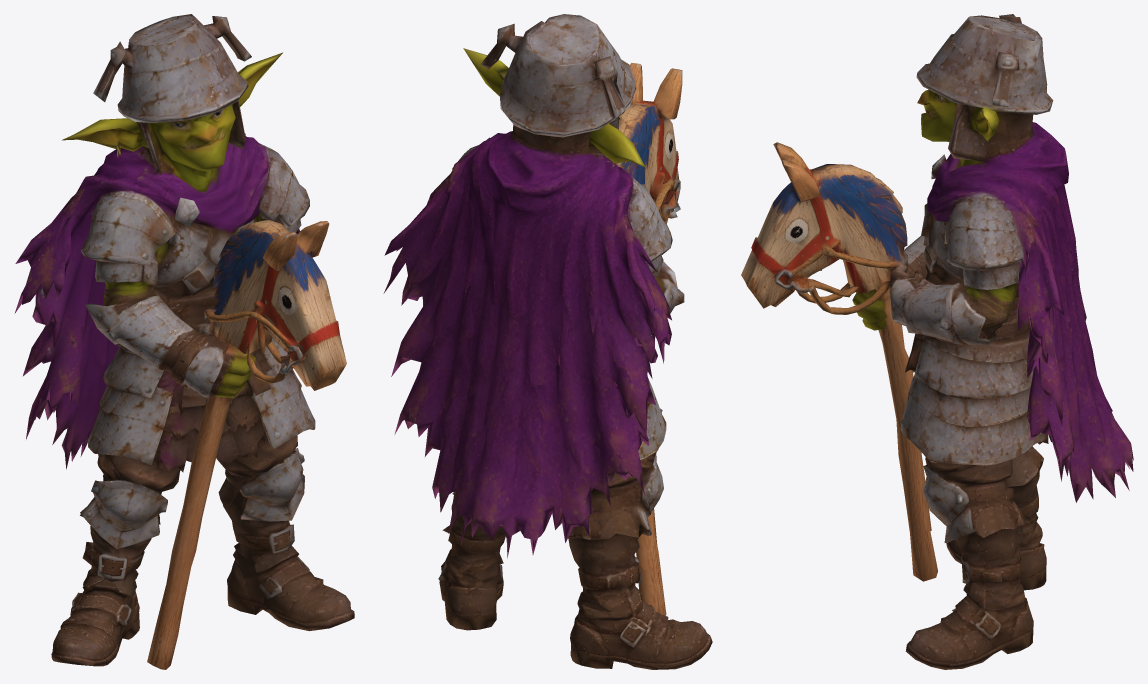
The model's file is original.glb.
3 views of the same model, side by side, from view 1: azimuth 30°, elevation 25°; view 2: azimuth 150°, elevation 25°; view 3: azimuth 270°, elevation 25° (orthographic). The views are drawn at different scales.
Parts seen in each view (by area): view 1: tripo_node_2f0e364b-dd75-4a96-b5ee-0b01f6a92b43; view 2: tripo_node_2f0e364b-dd75-4a96-b5ee-0b01f6a92b43; view 3: tripo_node_2f0e364b-dd75-4a96-b5ee-0b01f6a92b43.
Part boxes in pixels (left/top/right/bottom): tripo_node_2f0e364b-dd75-4a96-b5ee-0b01f6a92b43: left=14, top=14, right=354, bottom=669; tripo_node_2f0e364b-dd75-4a96-b5ee-0b01f6a92b43: left=383, top=14, right=712, bottom=669; tripo_node_2f0e364b-dd75-4a96-b5ee-0b01f6a92b43: left=741, top=14, right=1133, bottom=669.
Bounding box in the file's own units: 0.4787 × 0.9987 × 0.6095.
1 material, 1 textured.
